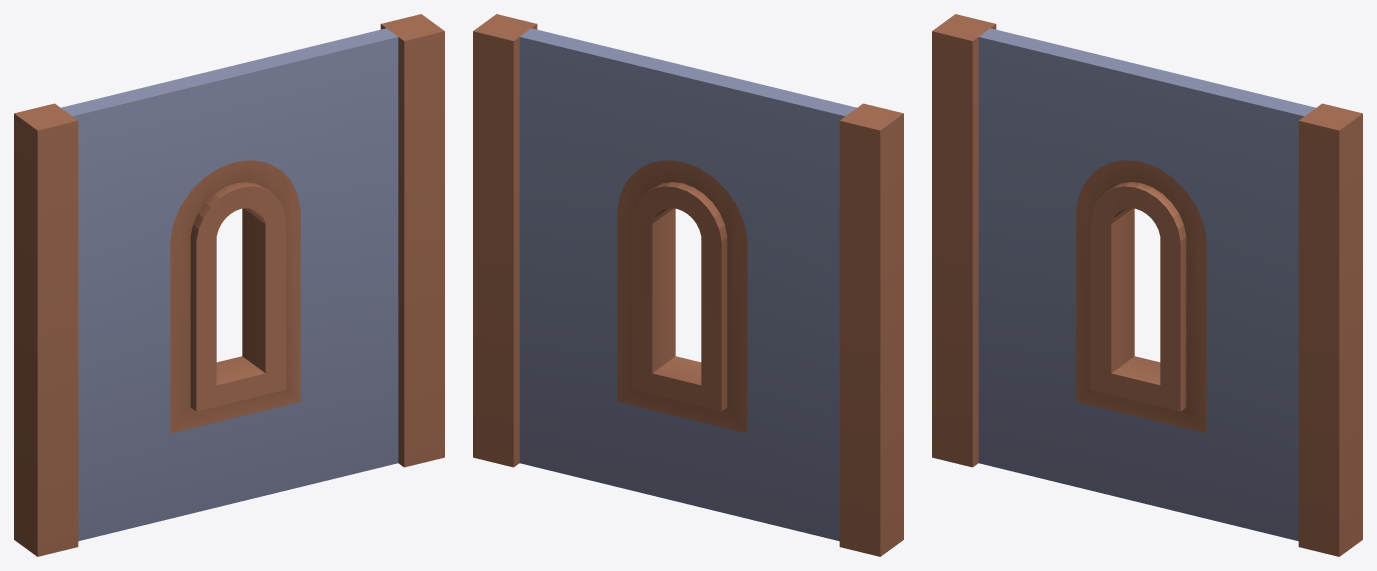
Rendered from fw_window_round.glb.
3 views of the same model, side by side, from view 1: azimuth 30°, elevation 25°; view 2: azimuth 150°, elevation 25°; view 3: azimuth 330°, elevation 25° (orthographic).
Parts seen in each view (by area): view 1: body; view 2: body; view 3: body.
Part boxes in pixels (x1,y1,x2,y2): body: (14,14,444,556); body: (473,14,903,556); body: (932,14,1362,556).
Size of the model in its own units: 2.6 by 2.6 by 0.26.
